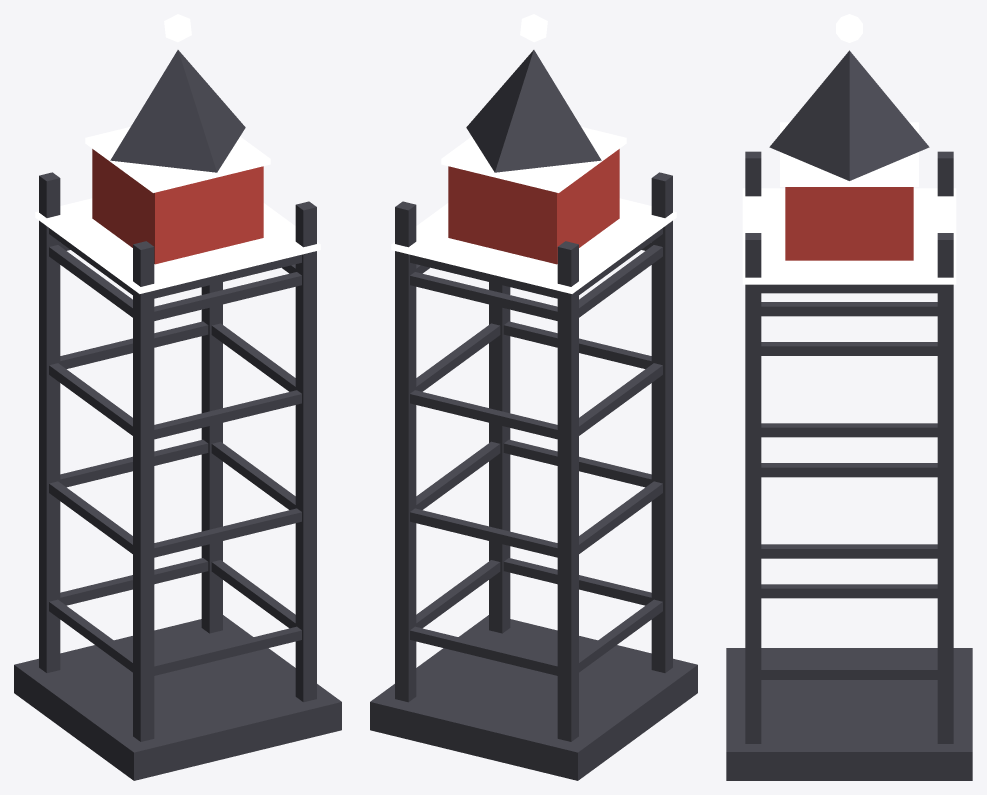
File: xuanchao_sentry.fbx
3 renders of one model, left to right at view 1: azimuth 30°, elevation 25°; view 2: azimuth 150°, elevation 25°; view 3: azimuth 270°, elevation 25°, orthographic. The views are drawn at different scales.
Parts seen in each view (by area): view 1: XC_sen_base, XC_sen_cabin, XC_sen_post0, XC_sen_post1, XC_sen_post2, XC_sen_spire, XC_sen_platform_red, XC_sen_post3, XC_sen_cabin_red, XC_sen_bx1, XC_sen_bx2, XC_sen_bx0 (+13 smaller); view 2: XC_sen_base, XC_sen_cabin, XC_sen_post2, XC_sen_post3, XC_sen_post0, XC_sen_spire, XC_sen_platform_red, XC_sen_post1, XC_sen_cabin_red, XC_sen_bx1.001, XC_sen_bx2.001, XC_sen_bx0.001 (+13 smaller); view 3: XC_sen_base, XC_sen_spire, XC_sen_platform_red, XC_sen_cabin, XC_sen_post1, XC_sen_post3, XC_sen_cabin_red, XC_sen_by0, XC_sen_by0.001, XC_sen_by1, XC_sen_by1.001, XC_sen_by2.001 (+6 smaller).
Part boxes in pixels (x1,y1,x2,y2): XC_sen_base: (14,615,341,780); XC_sen_cabin: (92,149,263,264); XC_sen_post0: (133,241,154,741); XC_sen_post1: (295,201,316,702); XC_sen_post2: (39,172,60,672); XC_sen_spire: (110,50,245,172); XC_sen_platform_red: (35,198,320,293); XC_sen_post3: (201,282,222,633); XC_sen_cabin_red: (85,127,270,192); XC_sen_bx1: (154,508,301,557); XC_sen_bx2: (154,390,301,439); XC_sen_bx0: (154,626,301,675); XC_sen_base: (370,615,697,780); XC_sen_cabin: (448,149,619,264); XC_sen_post2: (557,241,578,741); XC_sen_post3: (395,201,416,702); XC_sen_post0: (651,172,672,672); XC_sen_spire: (466,50,601,172); XC_sen_platform_red: (391,198,676,293); XC_sen_post1: (489,282,510,633); XC_sen_cabin_red: (441,127,626,192); XC_sen_bx1.001: (410,508,557,557); XC_sen_bx2.001: (410,390,557,439); XC_sen_bx0.001: (410,626,557,675); XC_sen_base: (726,648,972,780); XC_sen_spire: (769,50,929,180); XC_sen_platform_red: (742,188,956,284); XC_sen_cabin: (785,187,913,260); XC_sen_post1: (745,233,761,743); XC_sen_post3: (937,233,953,743); XC_sen_cabin_red: (780,122,918,186); XC_sen_by0: (761,584,937,598); XC_sen_by0.001: (761,665,937,679); XC_sen_by1: (761,463,937,477); XC_sen_by1.001: (761,544,937,558); XC_sen_by2.001: (761,423,937,437).
Size of the model in its own units: 4.6 by 14.75 by 4.6.
